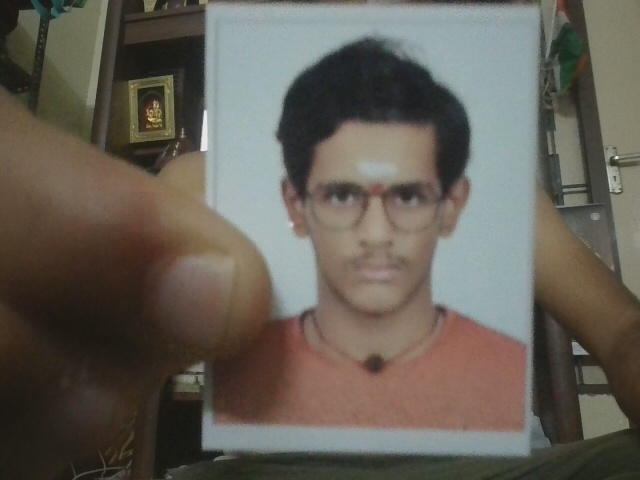fake: (273, 121, 478, 326)
